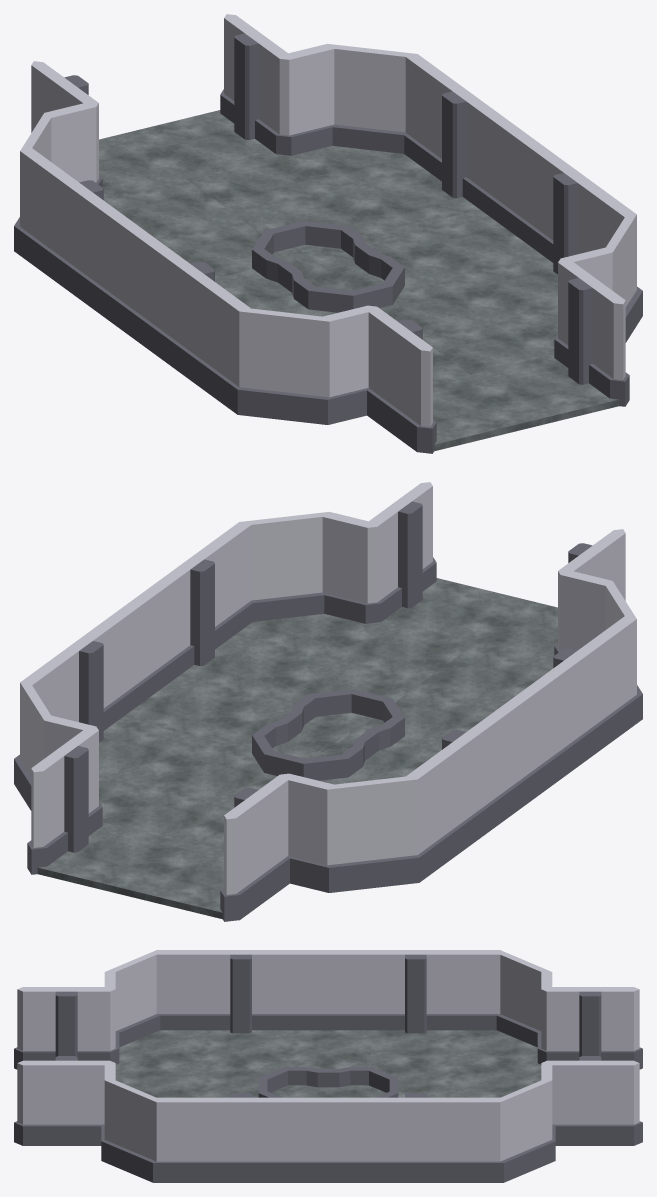
File: hallway_07.fbx
The picture shows the model from 3 angles, top to bottom: view 1: azimuth 30°, elevation 25°; view 2: azimuth 150°, elevation 25°; view 3: azimuth 270°, elevation 25°; orthographic projection. The views are drawn at different scales.
Parts seen in each view (by area): view 1: floor_02_33, corner_02_41, corner_02_43, floor_02_34, floor_04_38, floor_04_39, floor_04_30, floor_02_36, wall_02_48, wall_02_44, corner_02_42, fountain_03_27 (+11 smaller); view 2: floor_02_34, corner_02_42, corner_02_40, floor_02_33, floor_04_39, floor_04_38, floor_02_35, floor_04_30, wall_02_51, wall_02_47, corner_02_41, fountain_03_27 (+11 smaller); view 3: floor_02_36, floor_02_35, corner_02_40, corner_02_43, wall_02_44, wall_02_47, wall_02_46, wall_02_45, wall_01_54, corner_02_42, corner_02_41, wall_02_50 (+6 smaller).
Boxes of the visible parts, x1,y1,x2,y2 form: floor_02_33: (183,146,479,257); corner_02_41: (209,288,376,424); corner_02_43: (276,43,442,170); floor_02_34: (379,250,557,380); floor_04_38: (433,354,619,451); floor_04_39: (99,110,283,199); floor_04_30: (295,209,541,290); floor_02_36: (103,173,305,278); wall_02_48: (365,306,436,453); wall_02_44: (554,258,629,406); corner_02_42: (14,102,102,271); fountain_03_27: (252,221,404,312); floor_02_34: (177,614,473,725); corner_02_42: (280,756,447,892); corner_02_40: (213,511,380,638); floor_02_33: (99,718,277,848); floor_04_39: (37,822,223,919); floor_04_38: (380,578,557,666); floor_02_35: (366,641,553,741); floor_04_30: (121,677,361,758); wall_02_51: (220,774,291,921); wall_02_47: (27,727,102,874); corner_02_41: (554,570,642,739); fountain_03_27: (252,689,404,780); floor_02_36: (366,1030,541,1097); floor_02_35: (115,1030,290,1097); corner_02_40: (101,1061,202,1182); corner_02_43: (456,1062,555,1182); wall_02_44: (14,1056,114,1145); wall_02_47: (541,1056,642,1145); wall_02_46: (367,1093,464,1182); wall_02_45: (193,1093,289,1182); wall_01_54: (281,1097,374,1182); corner_02_42: (454,950,552,1064); corner_02_41: (104,950,202,1063); wall_02_50: (368,950,464,1033).
Bounding box in the file's own units: 42.05 × 10 × 72.05.
